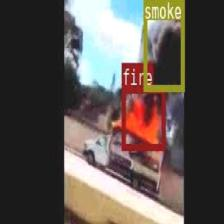fire: (121, 85, 164, 149)
smoke: (143, 0, 183, 90)
